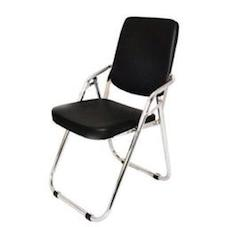chair: (14, 2, 207, 223)
